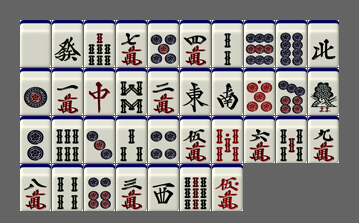0m: (212, 164, 243, 211)
0p: (244, 68, 275, 115)
0s: (212, 116, 243, 163)
1m: (52, 68, 83, 115)
1p: (20, 68, 51, 115)
1s: (308, 68, 339, 115)
1z: (180, 68, 211, 115)
2m: (148, 68, 179, 115)
2p: (20, 116, 51, 163)
2s: (212, 20, 243, 67)
2z: (212, 68, 243, 115)
3m: (116, 164, 147, 211)
3p: (84, 116, 115, 163)
3s: (116, 116, 147, 163)
3z: (148, 164, 179, 211)
4m: (180, 20, 211, 67)
4p: (148, 116, 179, 163)
4s: (52, 164, 83, 211)
4z: (308, 20, 339, 67)
5m: (180, 116, 211, 163)
5p: (148, 20, 179, 67)
5s: (276, 116, 307, 163)
5z: (20, 20, 51, 67)
6m: (244, 116, 275, 163)
6p: (84, 164, 115, 211)
6s: (52, 116, 83, 163)
6z: (52, 20, 83, 67)
7m: (116, 20, 147, 67)
7p: (276, 68, 307, 115)
7s: (84, 20, 115, 67)
7z: (84, 68, 115, 115)
8m: (20, 164, 51, 211)
8p: (276, 20, 307, 67)
8s: (116, 68, 147, 115)
9m: (308, 116, 339, 163)
9p: (244, 20, 275, 67)
9s: (180, 164, 211, 211)
